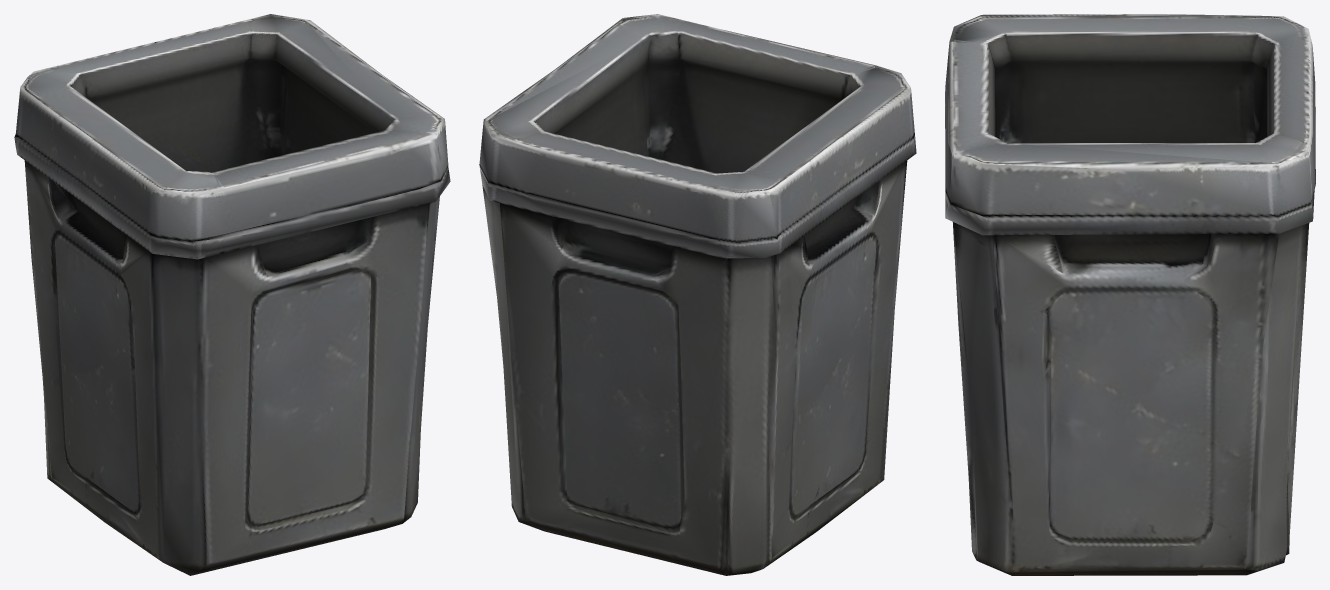
Rendered from tripo_convert_e3f76f28-9eae-4273-a977-98f83afb2d21.fbx.
3 views of the same model, side by side, from view 1: azimuth 30°, elevation 25°; view 2: azimuth 150°, elevation 25°; view 3: azimuth 270°, elevation 25° (orthographic). The views are drawn at different scales.
Visible parts, largest first — view 1: tripo_node_e3f76f28; view 2: tripo_node_e3f76f28; view 3: tripo_node_e3f76f28.
Part boxes in pixels (x1=…): tripo_node_e3f76f28: x1=14, y1=14, x2=450, y2=575; tripo_node_e3f76f28: x1=479, y1=14, x2=916, y2=575; tripo_node_e3f76f28: x1=945, y1=14, x2=1315, y2=575.
Size of the model in its own units: 0.7781 by 0.9995 by 0.7825.
Materials: 1 (1 with a texture image).
